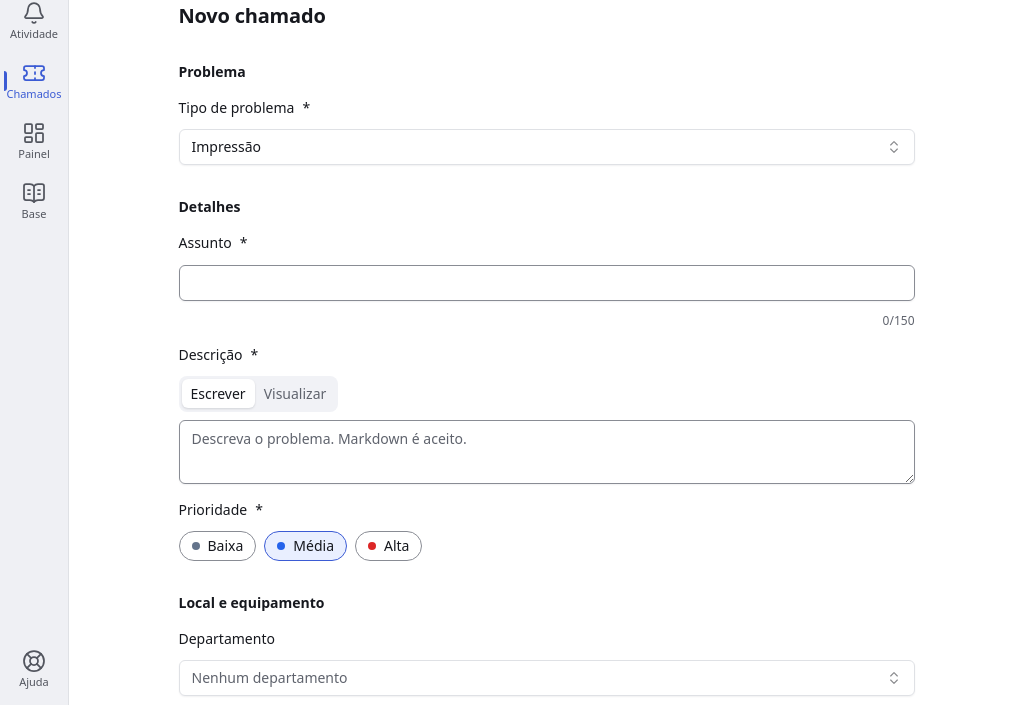
/chamados/novo (formulário) › 400 com detalhes mostra a mensagem no campo
Type "Impressora parada" into the field labelled "Assunto *" at (546, 282), box x1=178 y1=264 x2=914 y2=300
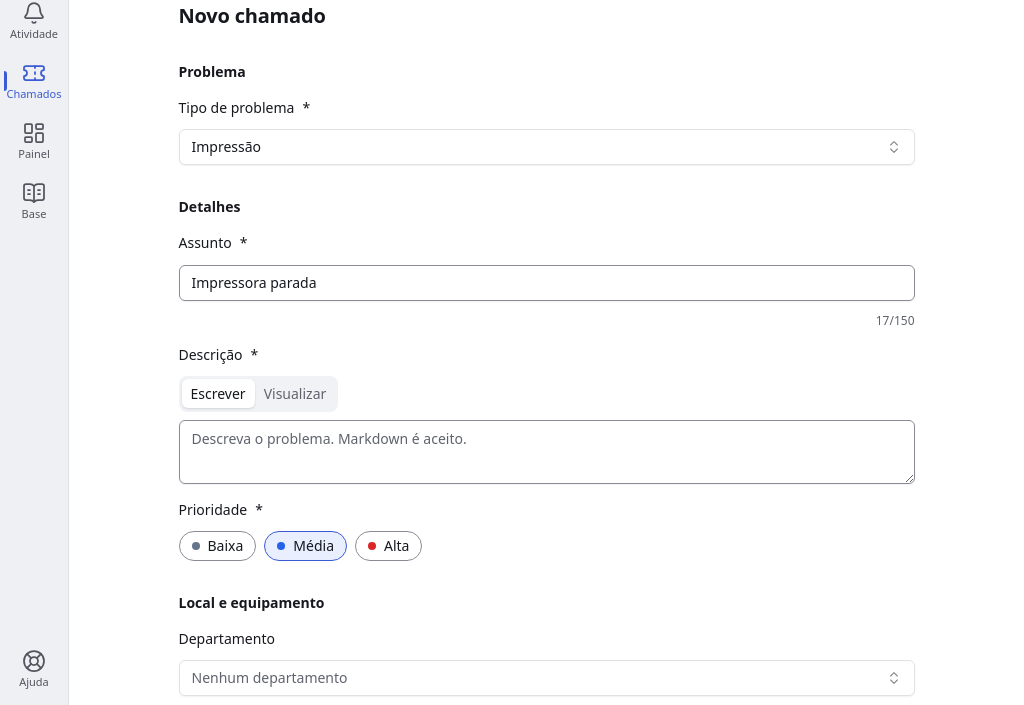
Type "A impressora do setor não imprime." into the text box labelled "Descrição *" at (546, 452), box x1=178 y1=420 x2=914 y2=484
(page scrolled)
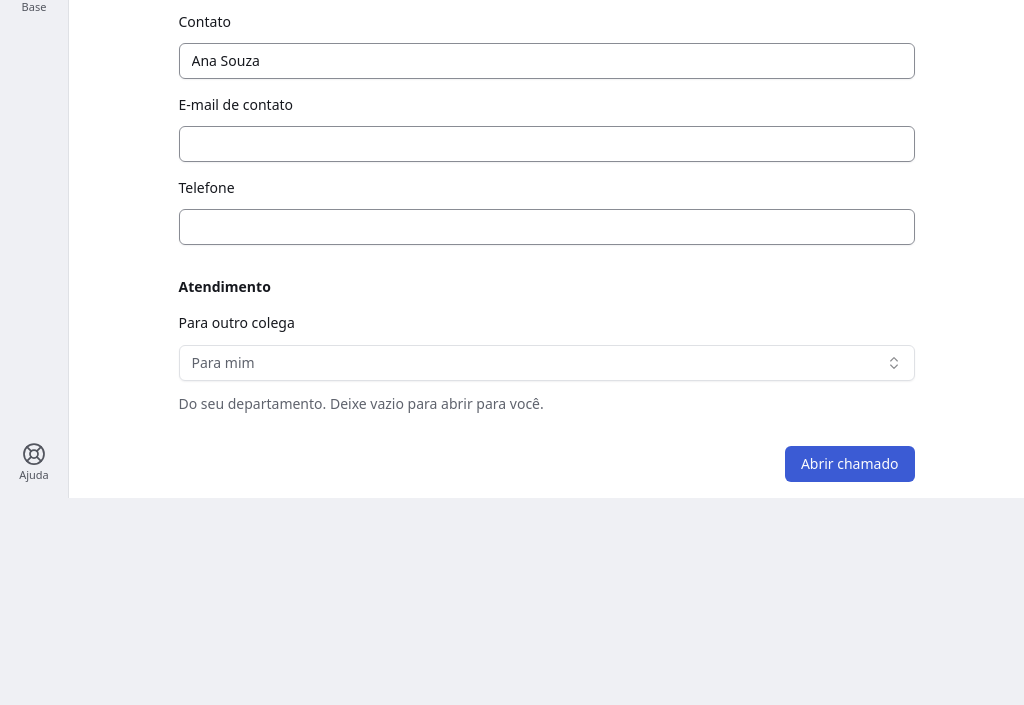
Click the button "Abrir chamado" at (850, 464), box x1=785 y1=446 x2=914 y2=482
(page scrolled)
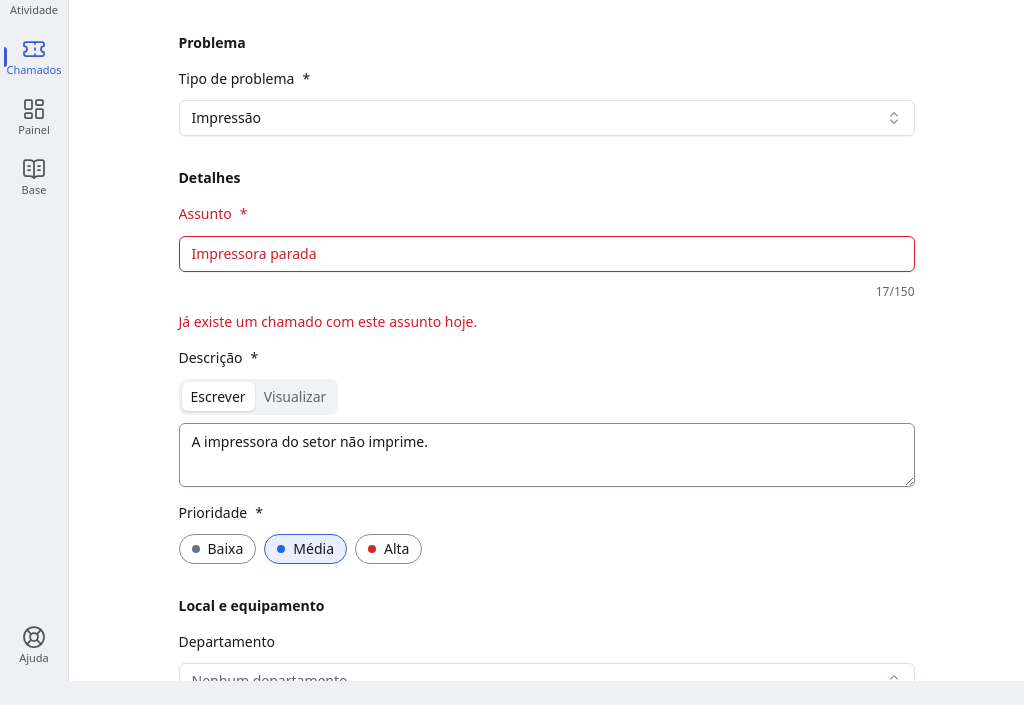
expect the text "Já existe um chamado com este assunto hoje." is shown: met, box x1=178 y1=312 x2=477 y2=330
